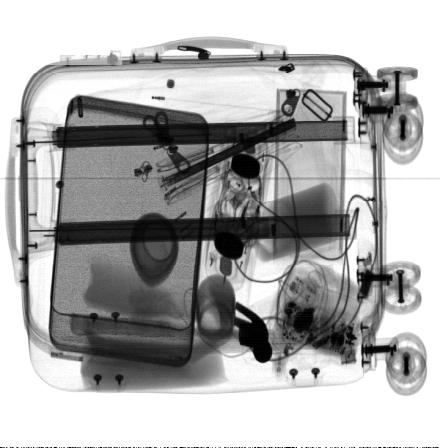Hammer: (69, 300, 273, 363)
